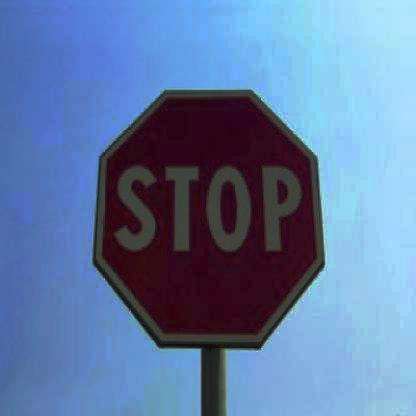Stop Sign: (92, 80, 325, 358)
